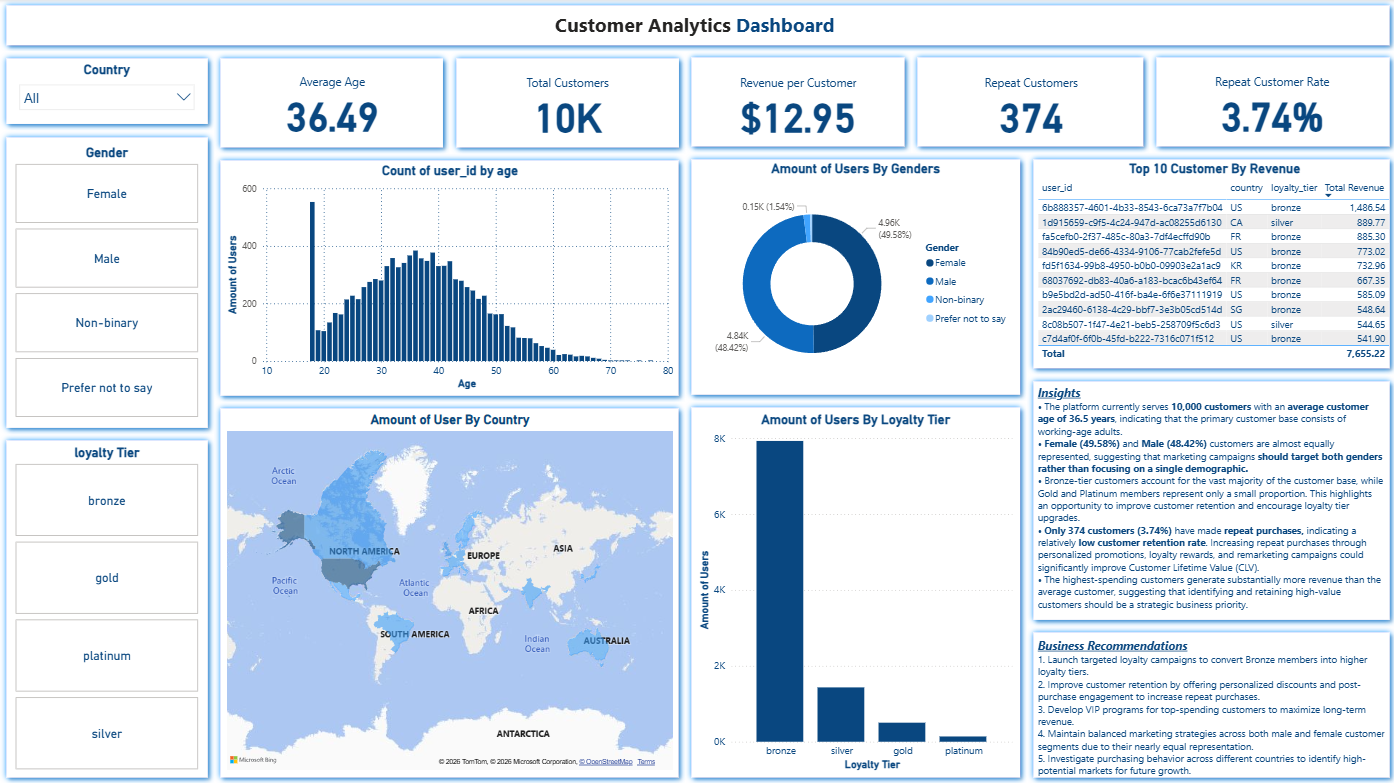

The dashboard page shown, as its layout file describes it:
{"tool":"powerbi","page":{"name":"Customer Analytics","canvas":[1920,1080],"ordinal":1},"visuals":[{"type":"shape","box":[1581.5,71.5,338.5,140.1],"z":0},{"type":"shape","box":[1253.3,71.5,328.3,140.1],"z":1000},{"type":"shape","box":[942.5,71.5,310.8,140.1],"z":2000},{"type":"shape","box":[618.6,72.9,323.9,140.1],"z":3000},{"type":"shape","box":[294.7,72.9,323.9,140.1],"z":4000},{"type":"shape","box":[1412.3,862.2,507.7,217.4],"z":5000},{"type":"shape","box":[1412.3,516.5,507.7,345.8],"z":6000},{"type":"shape","box":[1412.3,211.6,507.7,304.9],"z":7000},{"type":"shape","box":[942.5,552.9,469.8,526.7],"z":8000},{"type":"shape","box":[942.5,211.6,469.8,341.4],"z":9000},{"type":"shape","box":[294.7,554.4,647.8,525.2],"z":10000},{"type":"shape","box":[294.7,213,647.8,341.4],"z":11000},{"type":"shape","box":[0,598.2,294.7,481.5],"z":12000},{"type":"shape","box":[0,180.9,294.7,417.3],"z":13000},{"type":"shape","box":[0,72.9,294.7,108],"z":14000},{"type":"shape","box":[0,0,1920,72.5],"z":15000},{"type":"textbox","box":[754.3,10.4,411.4,51.8],"z":16000},{"type":"cardVisual","fields":{"Data":["public users.Total Customers"]},"box":[643.4,86.1,274.3,113.8],"z":17000},{"type":"cardVisual","fields":{"Data":["public users.Average Age"]},"box":[325.3,84.6,262.6,115.3],"z":18000},{"type":"cardVisual","fields":{"Data":["public users.Revenue per Customer"]},"box":[967.3,86.1,262.6,113.8],"z":19000},{"type":"cardVisual","fields":{"Data":["public users.Repeat Customer Rate"]},"box":[1619.5,84.6,262.6,115.3],"z":20000},{"type":"cardVisual","fields":{"Data":["public users.Repeat Customers"]},"box":[1286.8,86.1,262.6,113.8],"z":21000},{"type":"clusteredColumnChart","fields":{"Category":["public users.age"],"Y":["CountNonNull(public users.user_id)"]},"box":[306.7,225.6,624.4,316.3],"z":22000},{"type":"donutChart","title":"Amount of Users By Genders","fields":{"Category":["public users.gender"],"Y":["CountNonNull(public users.user_id)"]},"box":[955.6,223.2,442.1,316.6],"z":23000},{"type":"filledMap","title":"Amount of User By Country","fields":{"Category":["public users.country"]},"box":[306.4,567.5,624.4,497.5],"z":24000},{"type":"columnChart","title":"Amount of Users By Loyalty Tier","fields":{"Category":["public users.loyalty_tier"],"Y":["CountNonNull(public users.user_id)"]},"box":[955.6,567.5,442.1,497.5],"z":25000},{"type":"tableEx","title":"Top 10 Customer By Revenue","fields":{"Values":["public users.user_id","public users.country","public users.loyalty_tier","public purchases.Total Revenue"]},"box":[1422.5,223.2,497.5,293.3],"z":26000},{"type":"slicer","title":"Country","fields":{"Values":["public users.country"]},"box":[16,86.1,261.2,80.2],"z":27000},{"type":"advancedSlicerVisual","title":"Gender","fields":{"Values":["public users.gender"]},"box":[16,201.3,261.2,379.3],"z":28000},{"type":"advancedSlicerVisual","title":"loyalty Tier","fields":{"Values":["public users.loyalty_tier"]},"box":[16,612.8,261.2,452.3],"z":29000},{"type":"textbox","box":[1422.5,525.2,487.3,326.8],"z":30000},{"type":"textbox","box":[1422.5,873.9,487.3,205.7],"z":31000}]}

Visuals, with their boxes in screenshot pixels (x1, y1, x2, y2), scaled from the page's 1920x1080 canvas onto the 1394x783 screenshot:
shape: [1148,52,1393,153]
shape: [910,52,1148,153]
shape: [684,52,910,153]
shape: [449,53,684,154]
shape: [214,53,449,154]
shape: [1025,625,1393,782]
shape: [1025,374,1393,625]
shape: [1025,153,1393,374]
shape: [684,401,1025,782]
shape: [684,153,1025,401]
shape: [214,402,684,782]
shape: [214,154,684,402]
shape: [0,434,214,782]
shape: [0,131,214,434]
shape: [0,53,214,131]
shape: [0,0,1393,53]
textbox: [548,8,846,45]
cardVisual - public users.Total Customers: [467,62,666,145]
cardVisual - public users.Average Age: [236,61,427,145]
cardVisual - public users.Revenue per Customer: [702,62,893,145]
cardVisual - public users.Repeat Customer Rate: [1176,61,1366,145]
cardVisual - public users.Repeat Customers: [934,62,1125,145]
clusteredColumnChart - public users.age x CountNonNull(public users.user_id): [223,164,676,393]
"Amount of Users By Genders" donutChart: [694,162,1015,391]
"Amount of User By Country" filledMap: [222,411,676,772]
"Amount of Users By Loyalty Tier" columnChart: [694,411,1015,772]
"Top 10 Customer By Revenue" tableEx: [1033,162,1393,374]
"Country" slicer: [12,62,201,121]
"Gender" advancedSlicerVisual: [12,146,201,421]
"loyalty Tier" advancedSlicerVisual: [12,444,201,772]
textbox: [1033,381,1387,618]
textbox: [1033,634,1387,782]
